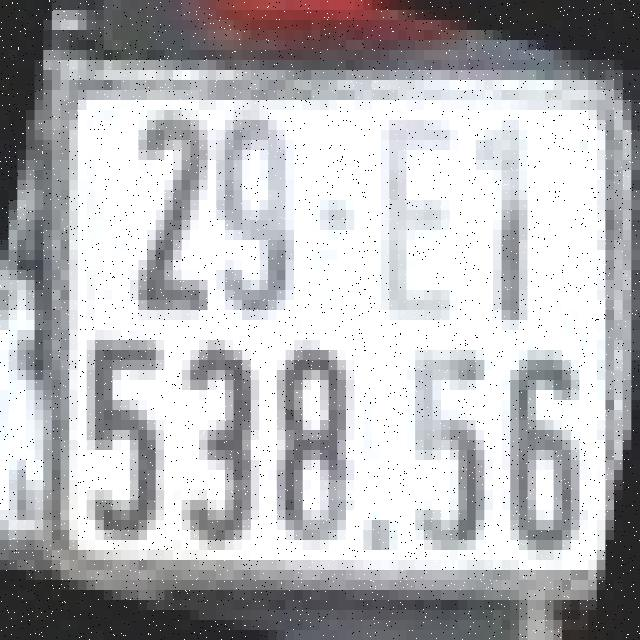1: (476, 115, 536, 325)
2: (134, 115, 212, 315)
3: (186, 340, 255, 540)
5: (411, 350, 488, 550), (91, 340, 160, 540)
6: (510, 350, 580, 550)
8: (281, 350, 350, 540)
9: (220, 115, 290, 315)
E: (385, 120, 463, 320)
